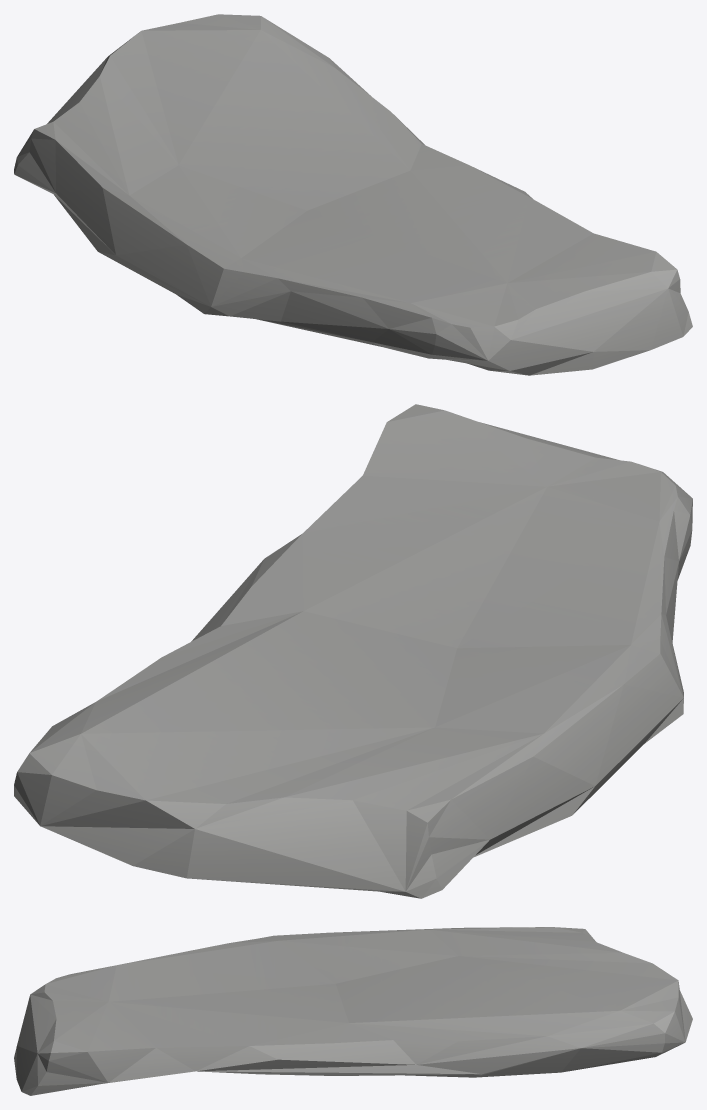
File: Cavern_Step_Sml-01.fbx
The picture shows the model from 3 angles, top to bottom: view 1: azimuth 30°, elevation 25°; view 2: azimuth 150°, elevation 25°; view 3: azimuth 270°, elevation 25°; orthographic projection. The views are drawn at different scales.
Parts seen in each view (by area): view 1: Cavern_Step_Sml-01; view 2: Cavern_Step_Sml-01; view 3: Cavern_Step_Sml-01.
Part boxes in pixels (bbox=[...]): Cavern_Step_Sml-01: bbox=[14, 14, 692, 375]; Cavern_Step_Sml-01: bbox=[14, 404, 692, 898]; Cavern_Step_Sml-01: bbox=[14, 927, 692, 1095].
Size of the model in its own units: 111 by 23.04 by 219.
Materials: 1 (1 with a texture image).
